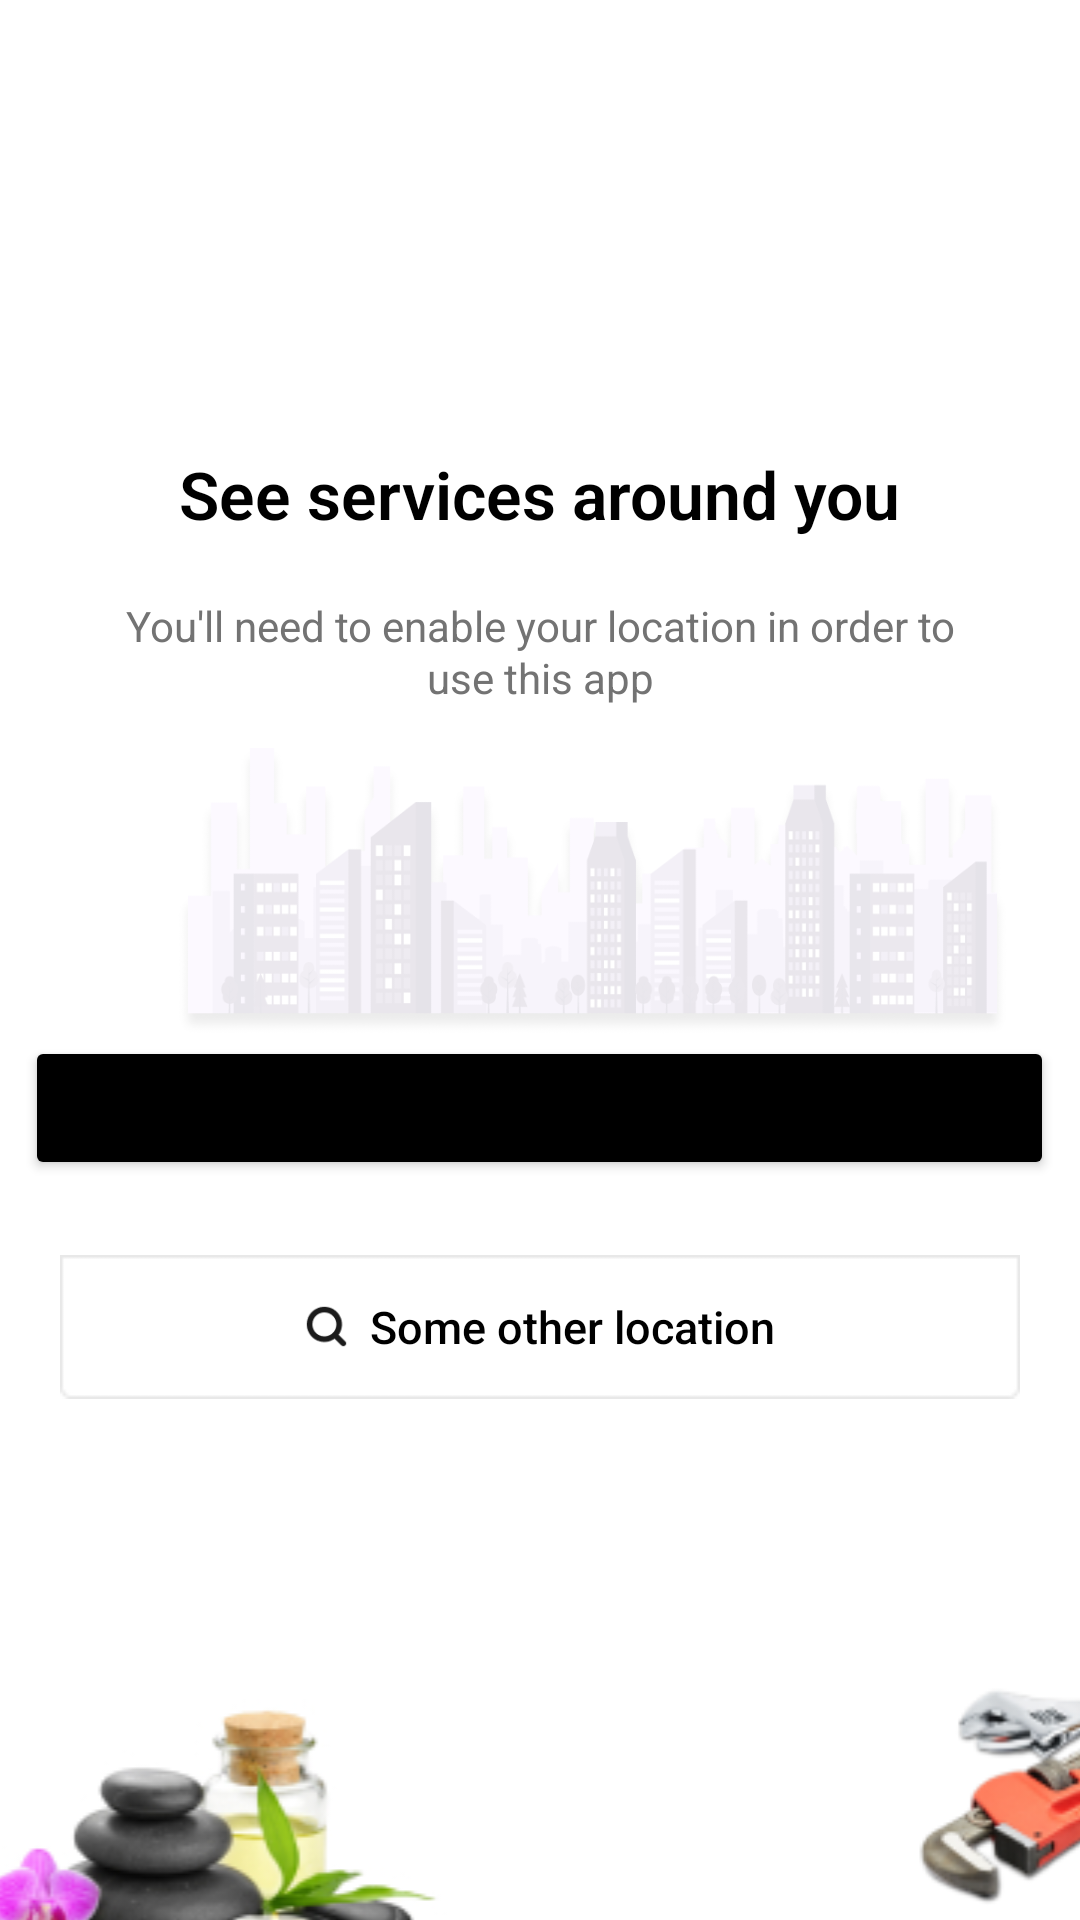

Icon click points for this 1080w x 1920h phone screenshot, format (x,y):
search: (326,1326)
